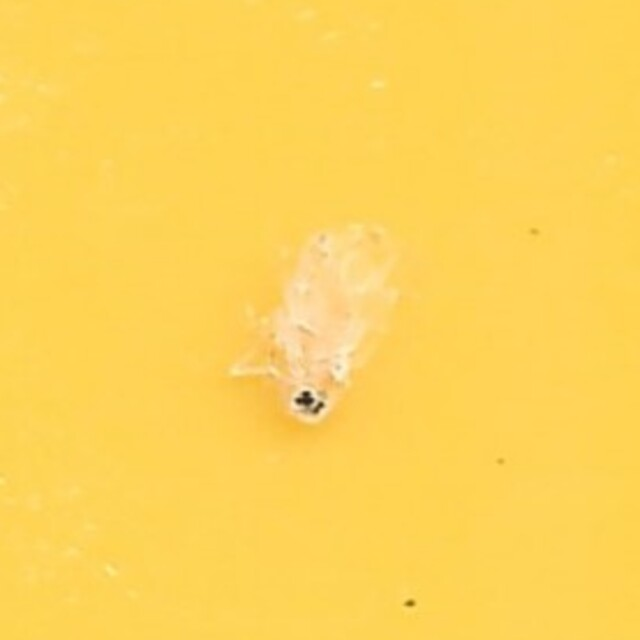Hemiptera: (231, 213, 409, 427)
